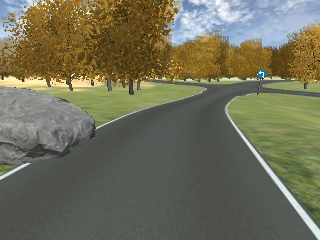left: (256, 70, 265, 77)
